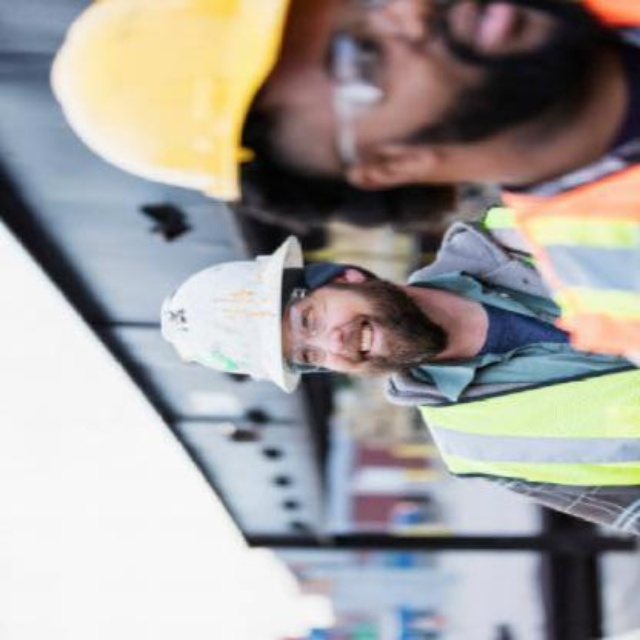glass: (282, 280, 328, 374)
vest-helm: (408, 365, 632, 489)
white-helm: (150, 223, 306, 405)
